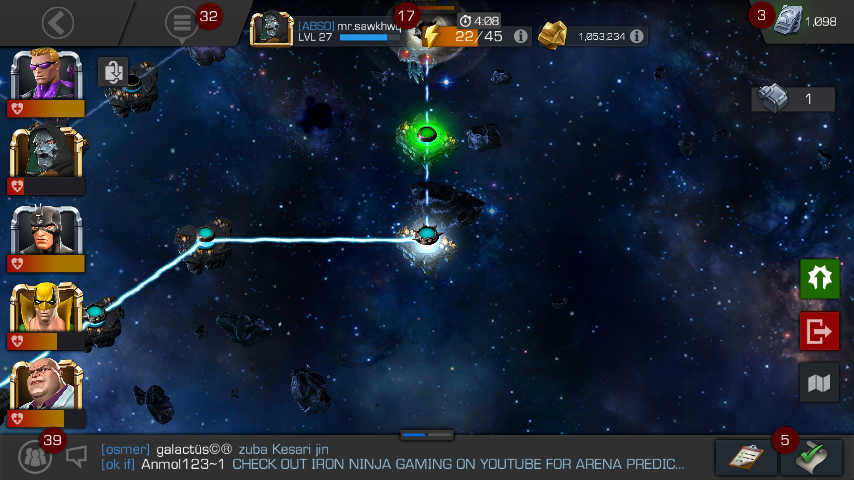green: (417, 127, 437, 142)
